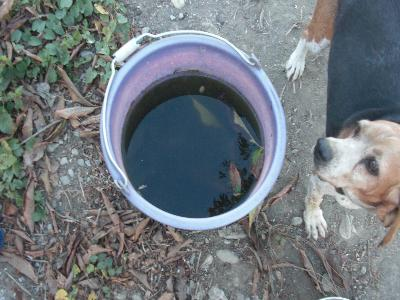bucket: (99, 33, 288, 232)
